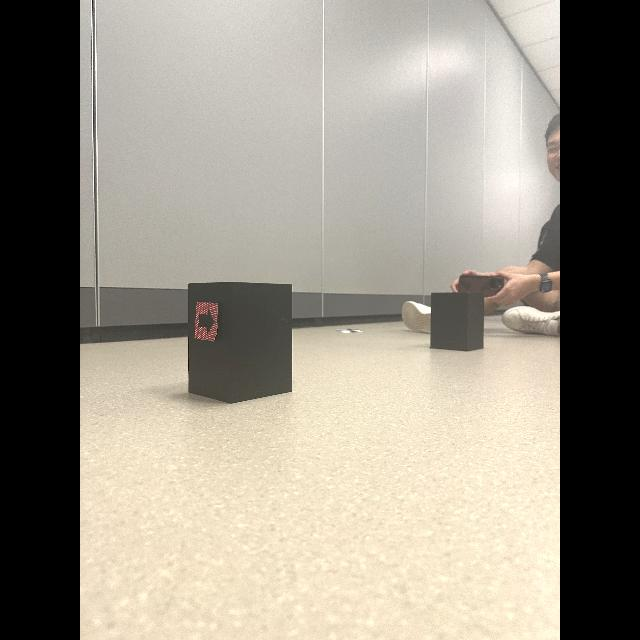RIGHT: (198, 308, 215, 334)
